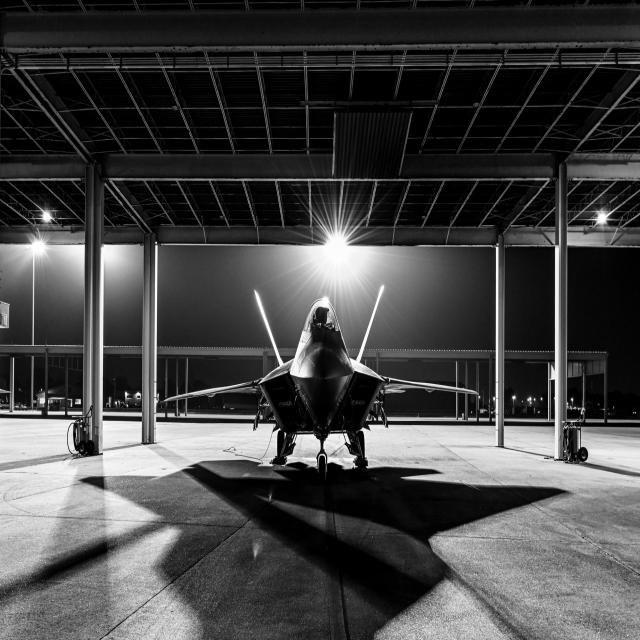MIL_Plane: (163, 284, 480, 485)
